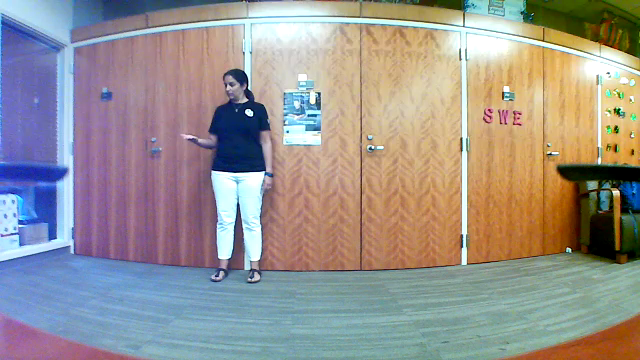land: (173, 123, 207, 145)
